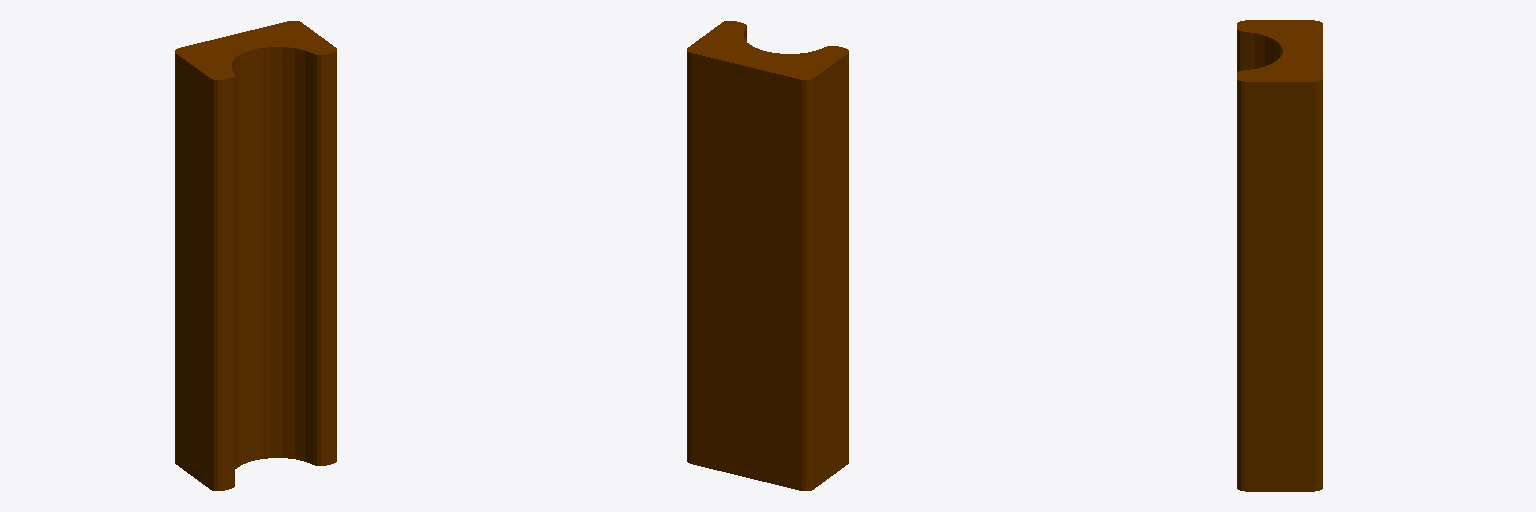
robot.urdf — Medium_Long_Arch_Brown:
<?xml version="1.0"?>
<robot name="Medium_Long_Arch_Brown">
    <link name="Medium_Long_Arch_Brown">
        <visual>
            <geometry>
                <mesh filename="../mesh/factory_insertion/Medium_Long_Arch_Brown.obj" scale="0.001 0.001 0.001"/>
            </geometry>
            <material name="Brown">
              <color rgba="0.46 0.25 0 0"/>
            </material>
        </visual>
        <collision>
            <geometry>
                <mesh filename="../mesh/factory_insertion/Medium_Long_Arch_Brown.obj" scale="0.001 0.001 0.001"/>
            </geometry>
            <sdf resolution="512"/>
        </collision>
    </link>
</robot>

--- Render facts (derived) ---
3 views of the same robot in one strip: view 1: azimuth 30°, elevation 25°; view 2: azimuth 150°, elevation 25°; view 3: azimuth 270°, elevation 25° (orthographic).
Robot: Medium_Long_Arch_Brown — 1 links, 0 joints (none); root link Medium_Long_Arch_Brown; default pose: all joints at 0.
Visible links, largest first — view 1: Medium_Long_Arch_Brown; view 2: Medium_Long_Arch_Brown; view 3: Medium_Long_Arch_Brown.
Boxes of the visible links, bbox=[...] form: Medium_Long_Arch_Brown: bbox=[175, 21, 336, 490]; Medium_Long_Arch_Brown: bbox=[687, 21, 848, 490]; Medium_Long_Arch_Brown: bbox=[1237, 20, 1322, 491].
Bounding box of the posed robot: 0.048 × 0.0288 × 0.15 m (x, y, z).
Meshes: 1 distinct files referenced, 1 mesh visuals loaded (1 OBJ).
